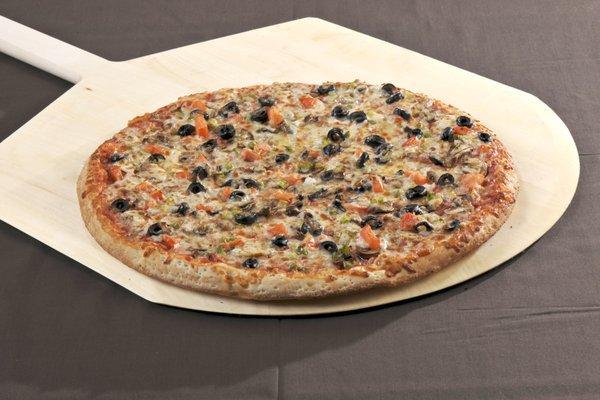curry: (28, 1, 598, 392)
sandwich: (81, 79, 518, 301)
